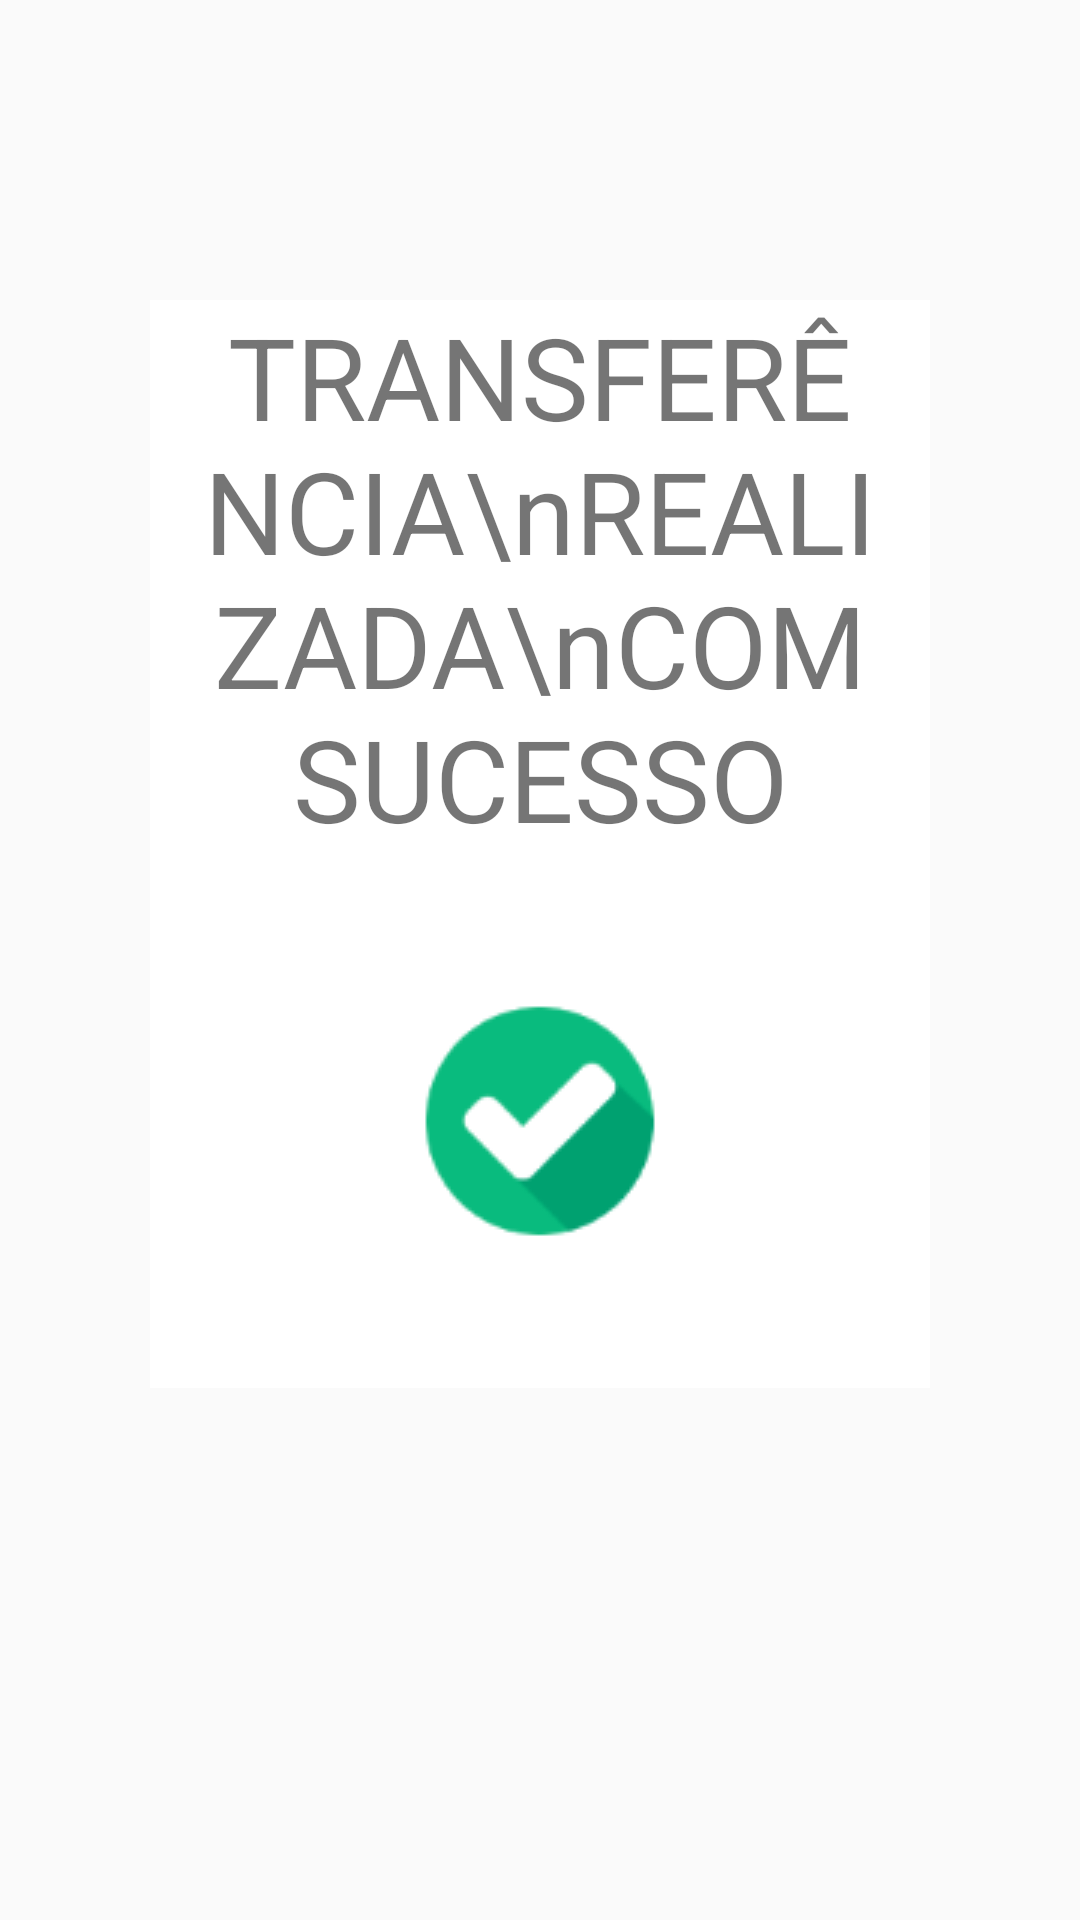

Locate icon controls on the screen. Image size 1080×1920, boxes as (x1, y1, x2, y2).
deu bom coiso: (425, 1006, 655, 1236)
